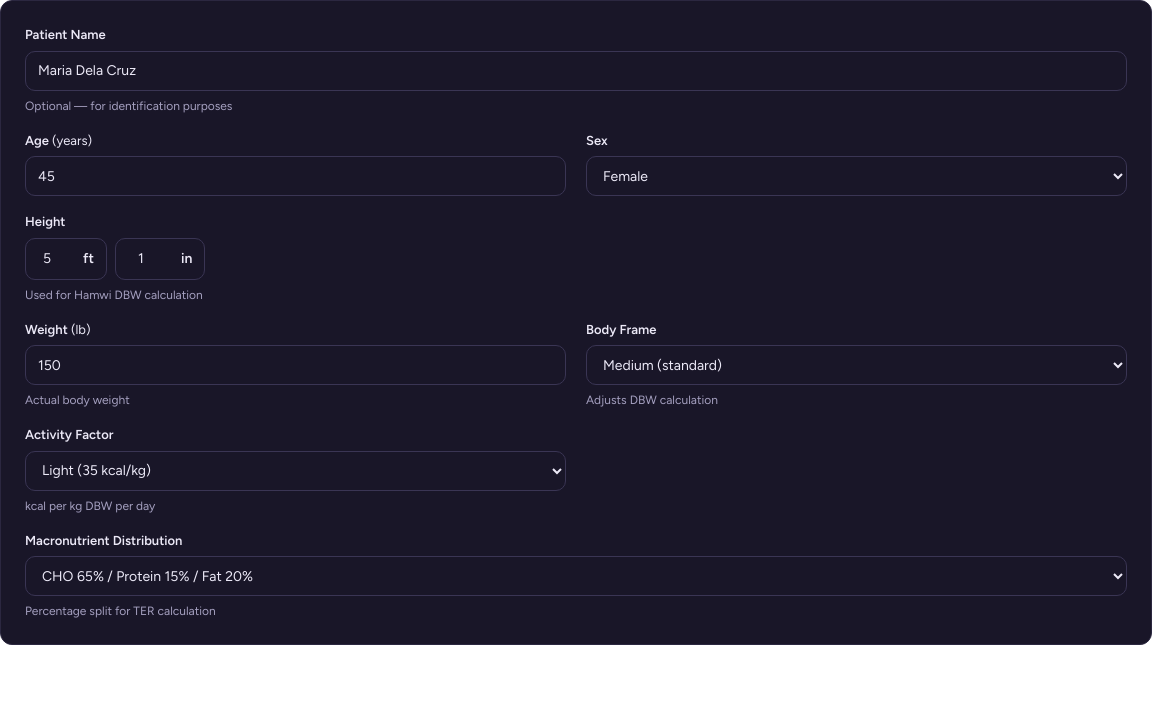
PatientForm validation › blur validation - height › shows error for inches above 11
This screenshot has width=1152, height=720.
Replace the text in the number field named "Height in inches" with "12" at (148, 258), box x1=116 y1=238 x2=181 y2=278
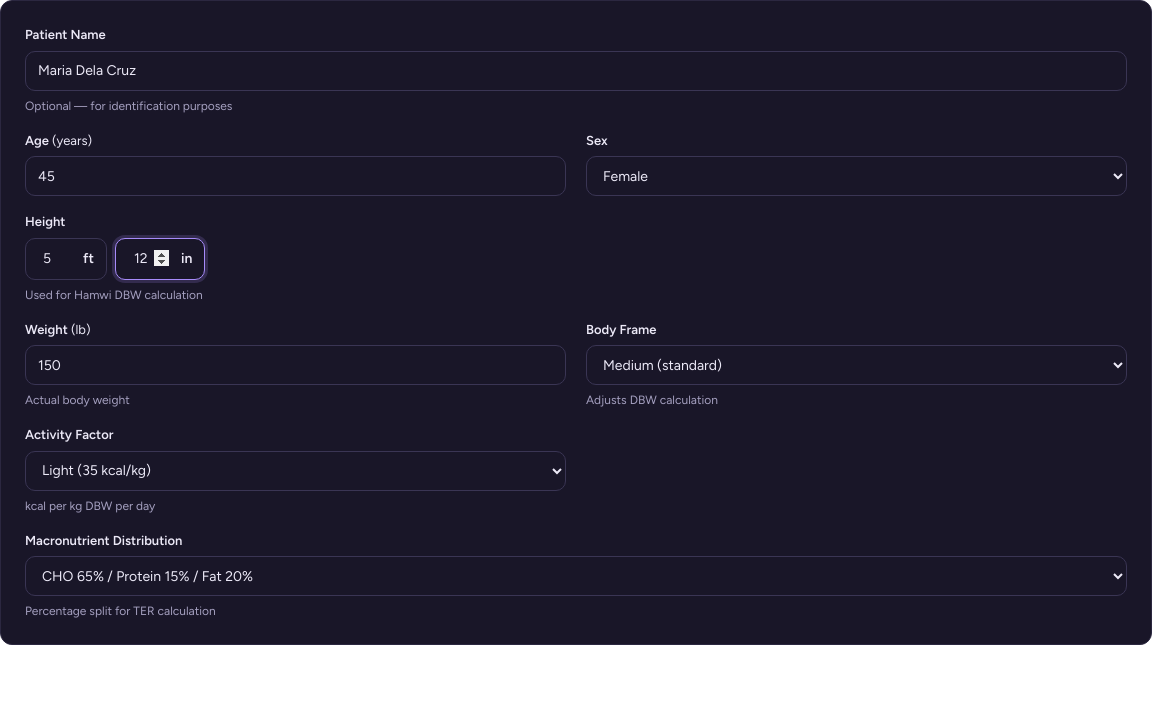
Press Tab
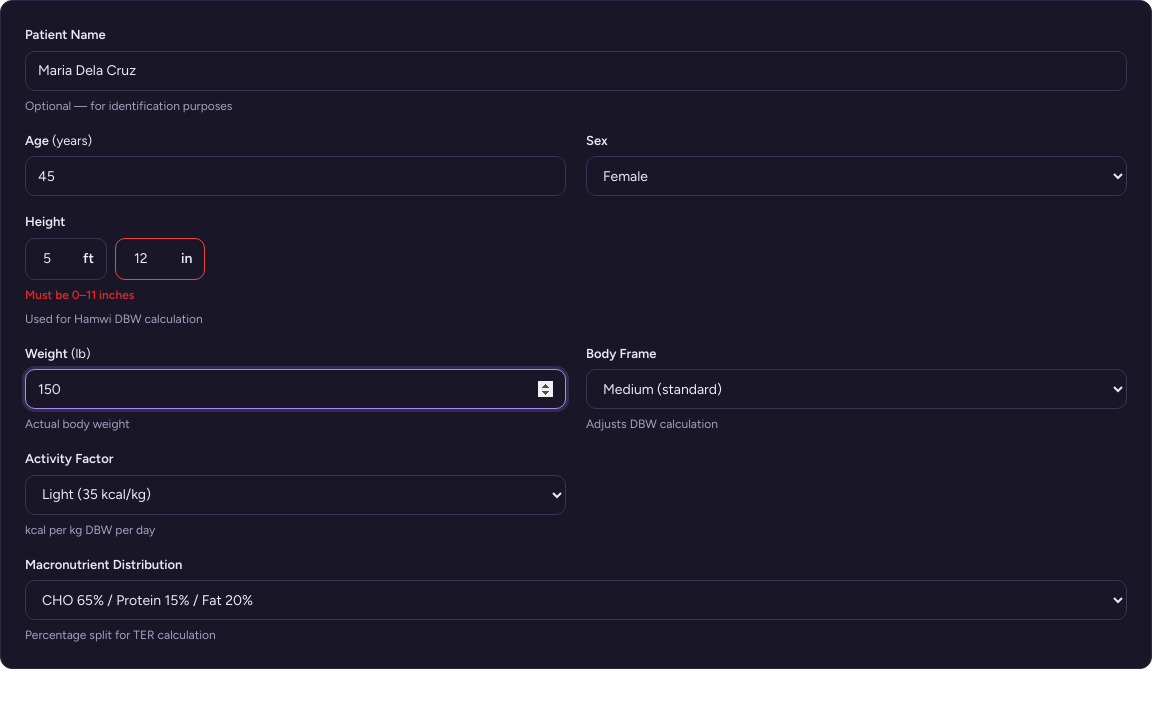
Expected: the text "Must be 0–11 inches" is shown, x1=25 y1=288 x2=134 y2=302
